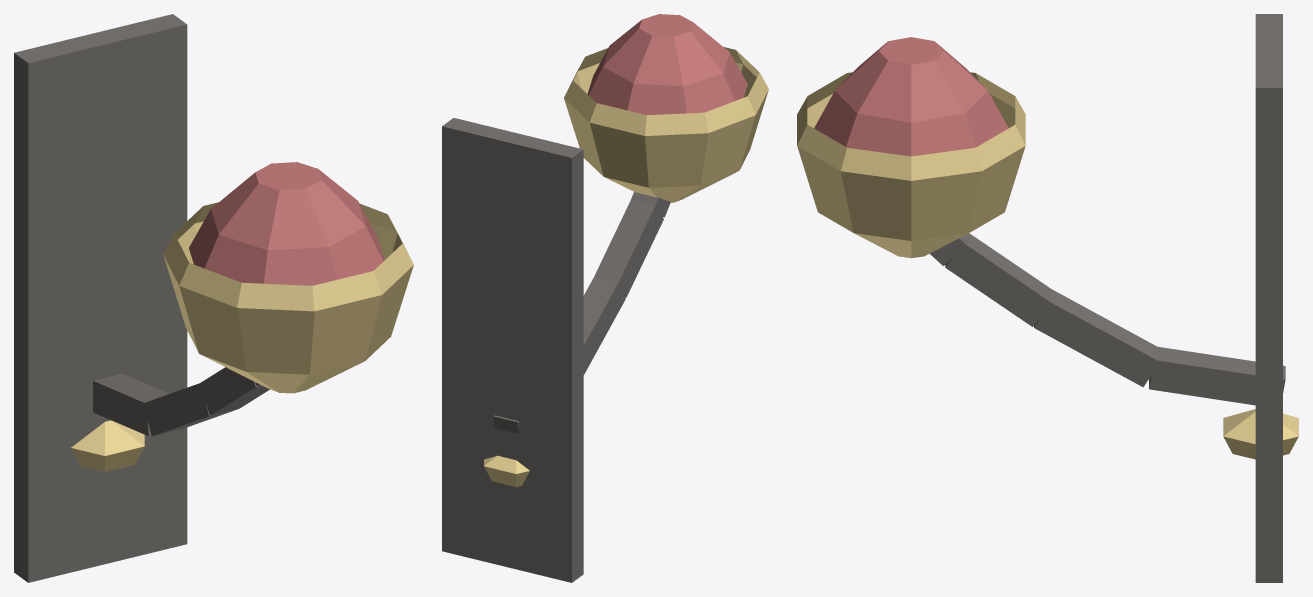
The model's file is kit_mashaal.glb.
3 renders of one model, left to right at view 1: azimuth 30°, elevation 25°; view 2: azimuth 150°, elevation 25°; view 3: azimuth 270°, elevation 25°, orthographic. The views are drawn at different scales.
Visible parts, largest first — view 1: kit_mashaal; view 2: kit_mashaal; view 3: kit_mashaal.
Part boxes in pixels (<box>): kit_mashaal: <box>14,14,413,582</box>; kit_mashaal: <box>442,14,768,582</box>; kit_mashaal: <box>797,14,1298,582</box>.
Bounding box in the file's own units: 0.22 × 0.5 × 0.4593.
